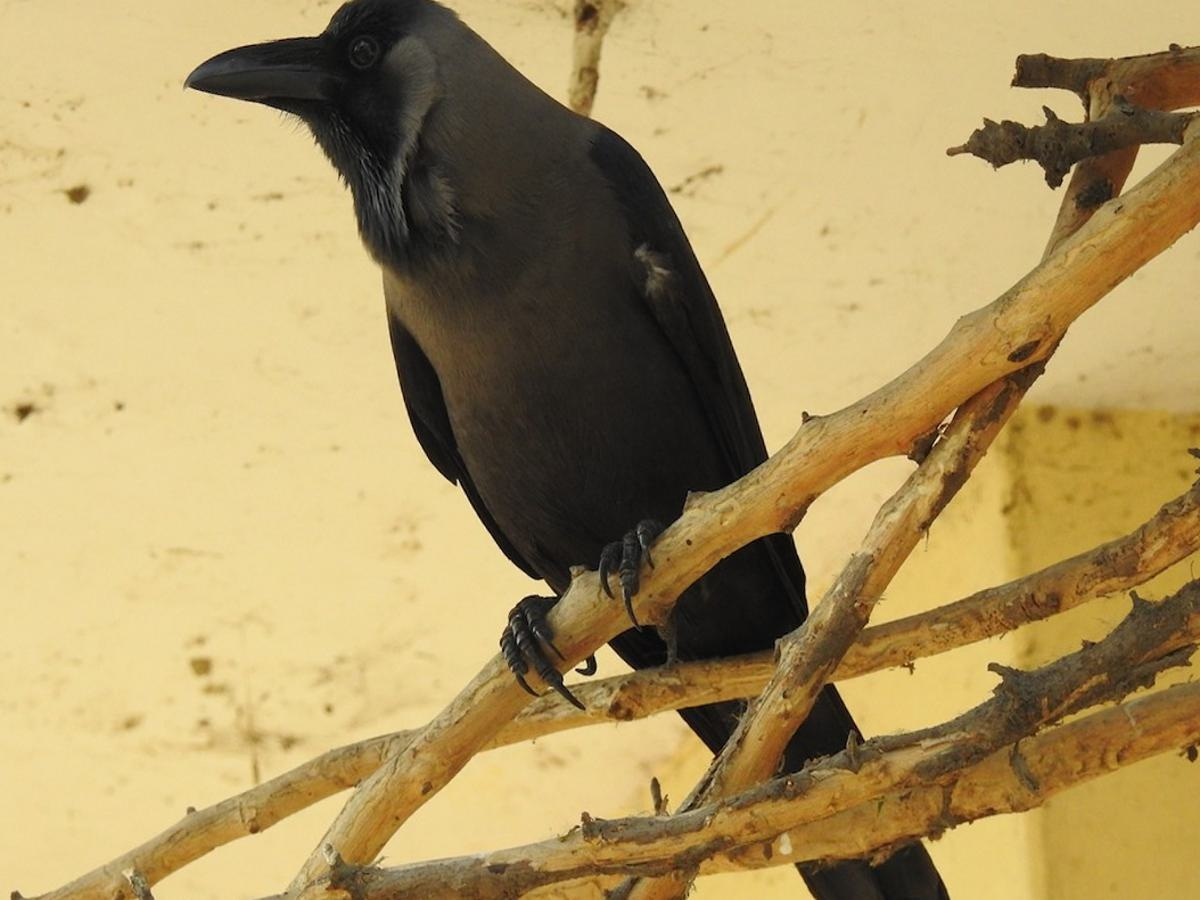crow: (181, 8, 936, 880)
